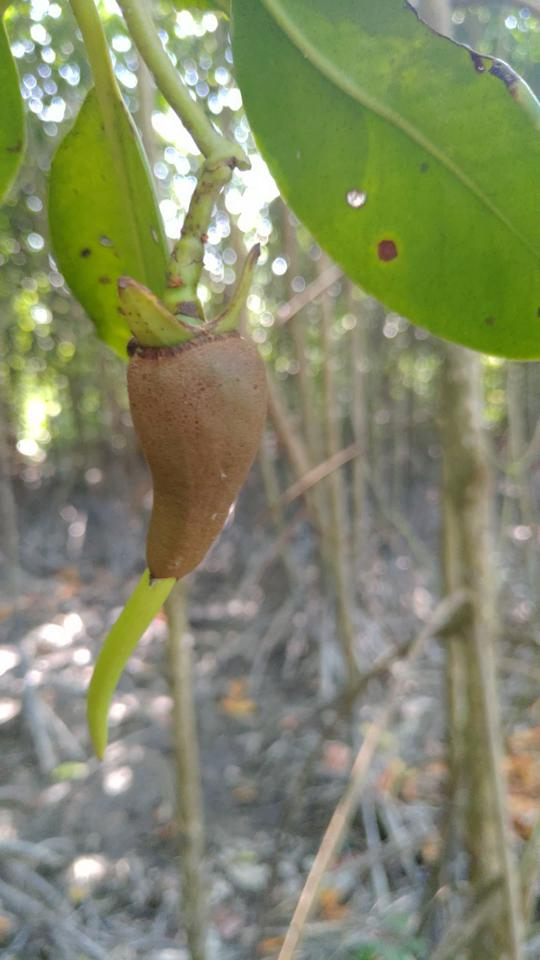mentah: (67, 232, 286, 786)
